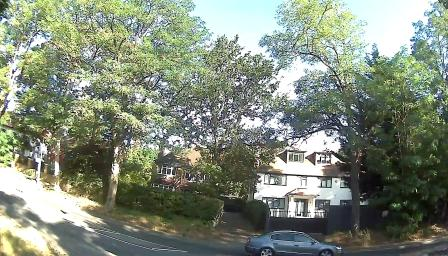Cars: (243, 226, 344, 256)
